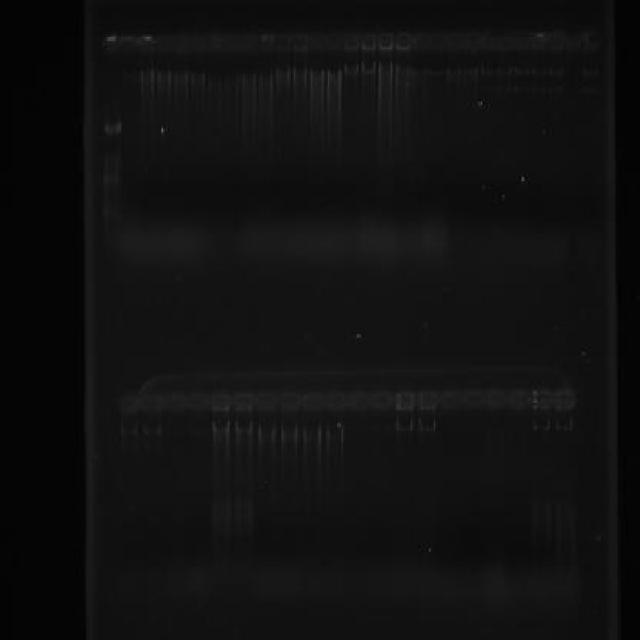L: (98, 26, 607, 62), (116, 382, 584, 420)
M: (98, 32, 124, 225)
P: (101, 200, 121, 220), (104, 120, 122, 134), (102, 174, 121, 186)
Pc: (482, 386, 510, 414), (554, 385, 577, 413), (138, 390, 162, 416), (346, 388, 369, 414), (184, 391, 210, 414), (255, 390, 278, 415), (532, 386, 554, 412), (510, 386, 532, 412), (232, 388, 254, 414), (302, 388, 324, 414), (460, 388, 483, 412), (209, 389, 231, 414), (162, 390, 184, 415), (372, 388, 394, 412), (438, 388, 460, 412), (394, 388, 414, 414), (279, 388, 299, 414), (118, 390, 138, 416), (494, 31, 514, 57), (416, 390, 438, 412), (290, 30, 310, 53), (170, 30, 188, 55), (529, 31, 548, 54), (325, 388, 343, 412), (188, 29, 206, 53), (325, 30, 343, 54), (206, 30, 225, 52), (548, 30, 564, 55), (582, 32, 600, 54), (275, 30, 291, 54), (309, 30, 325, 54), (242, 30, 258, 53), (342, 32, 360, 52), (360, 32, 377, 52), (226, 30, 240, 53), (468, 31, 482, 54), (378, 31, 394, 51), (396, 32, 412, 52), (260, 32, 276, 52), (566, 32, 582, 52), (414, 32, 429, 52), (428, 32, 444, 50), (481, 31, 494, 52), (154, 34, 170, 51), (514, 34, 530, 51), (138, 34, 154, 50), (456, 29, 467, 52), (444, 30, 456, 50), (120, 34, 134, 50), (105, 34, 118, 50)
